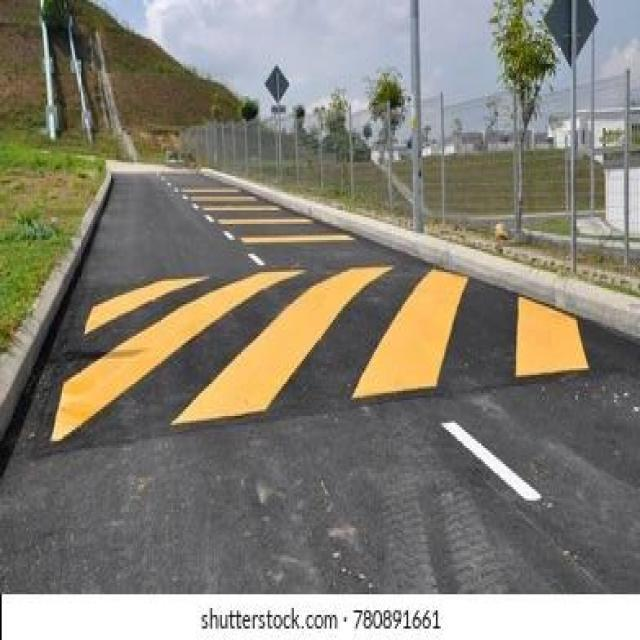speedbreaker: (0, 245, 632, 477)
